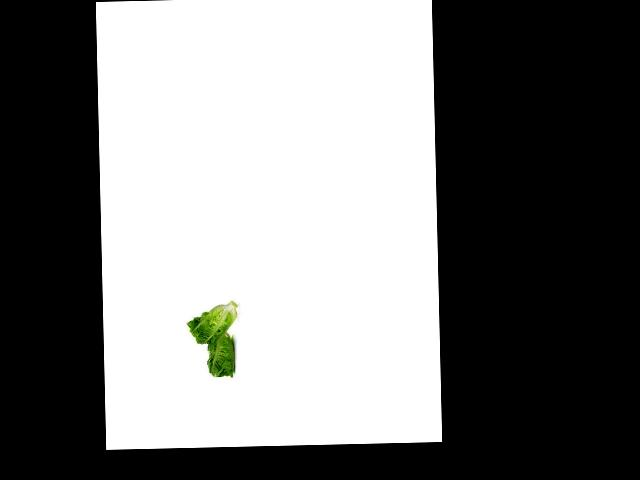lettuce: (188, 299, 242, 350)
